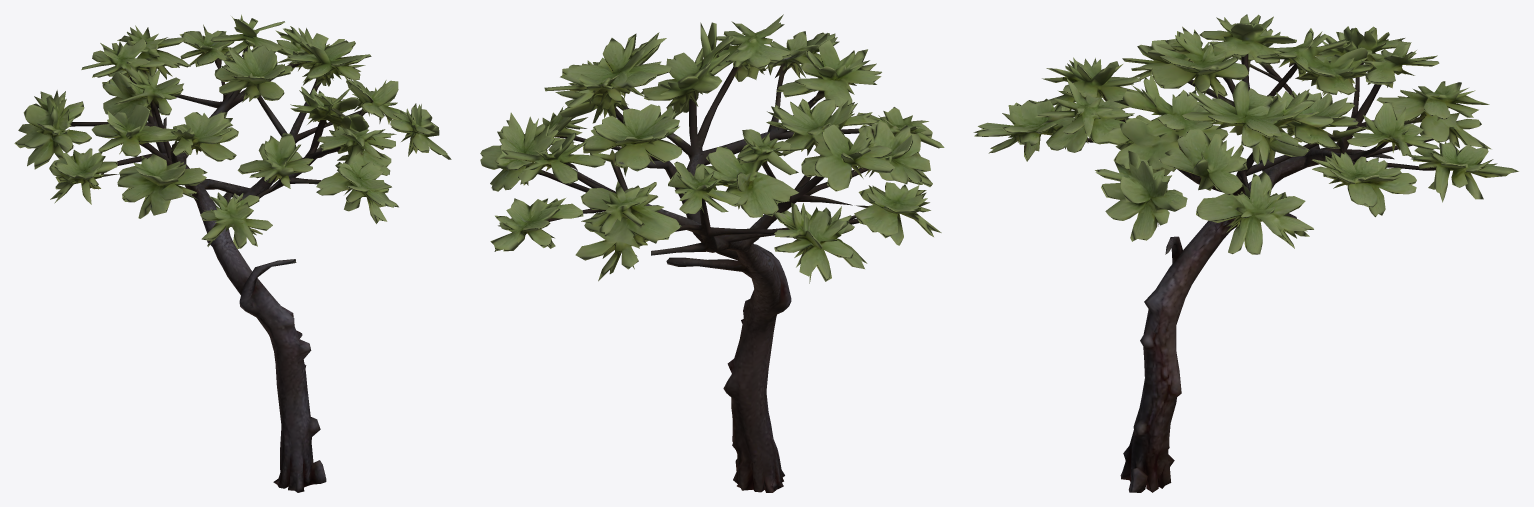
Rendered from tree_acacia.glb.
3 views of the same model, side by side, from view 1: azimuth 30°, elevation 25°; view 2: azimuth 150°, elevation 25°; view 3: azimuth 270°, elevation 25° (orthographic). The views are drawn at different scales.
Size of the model in its own units: 0.8506 by 0.8721 by 1.
1 material, 1 textured.
